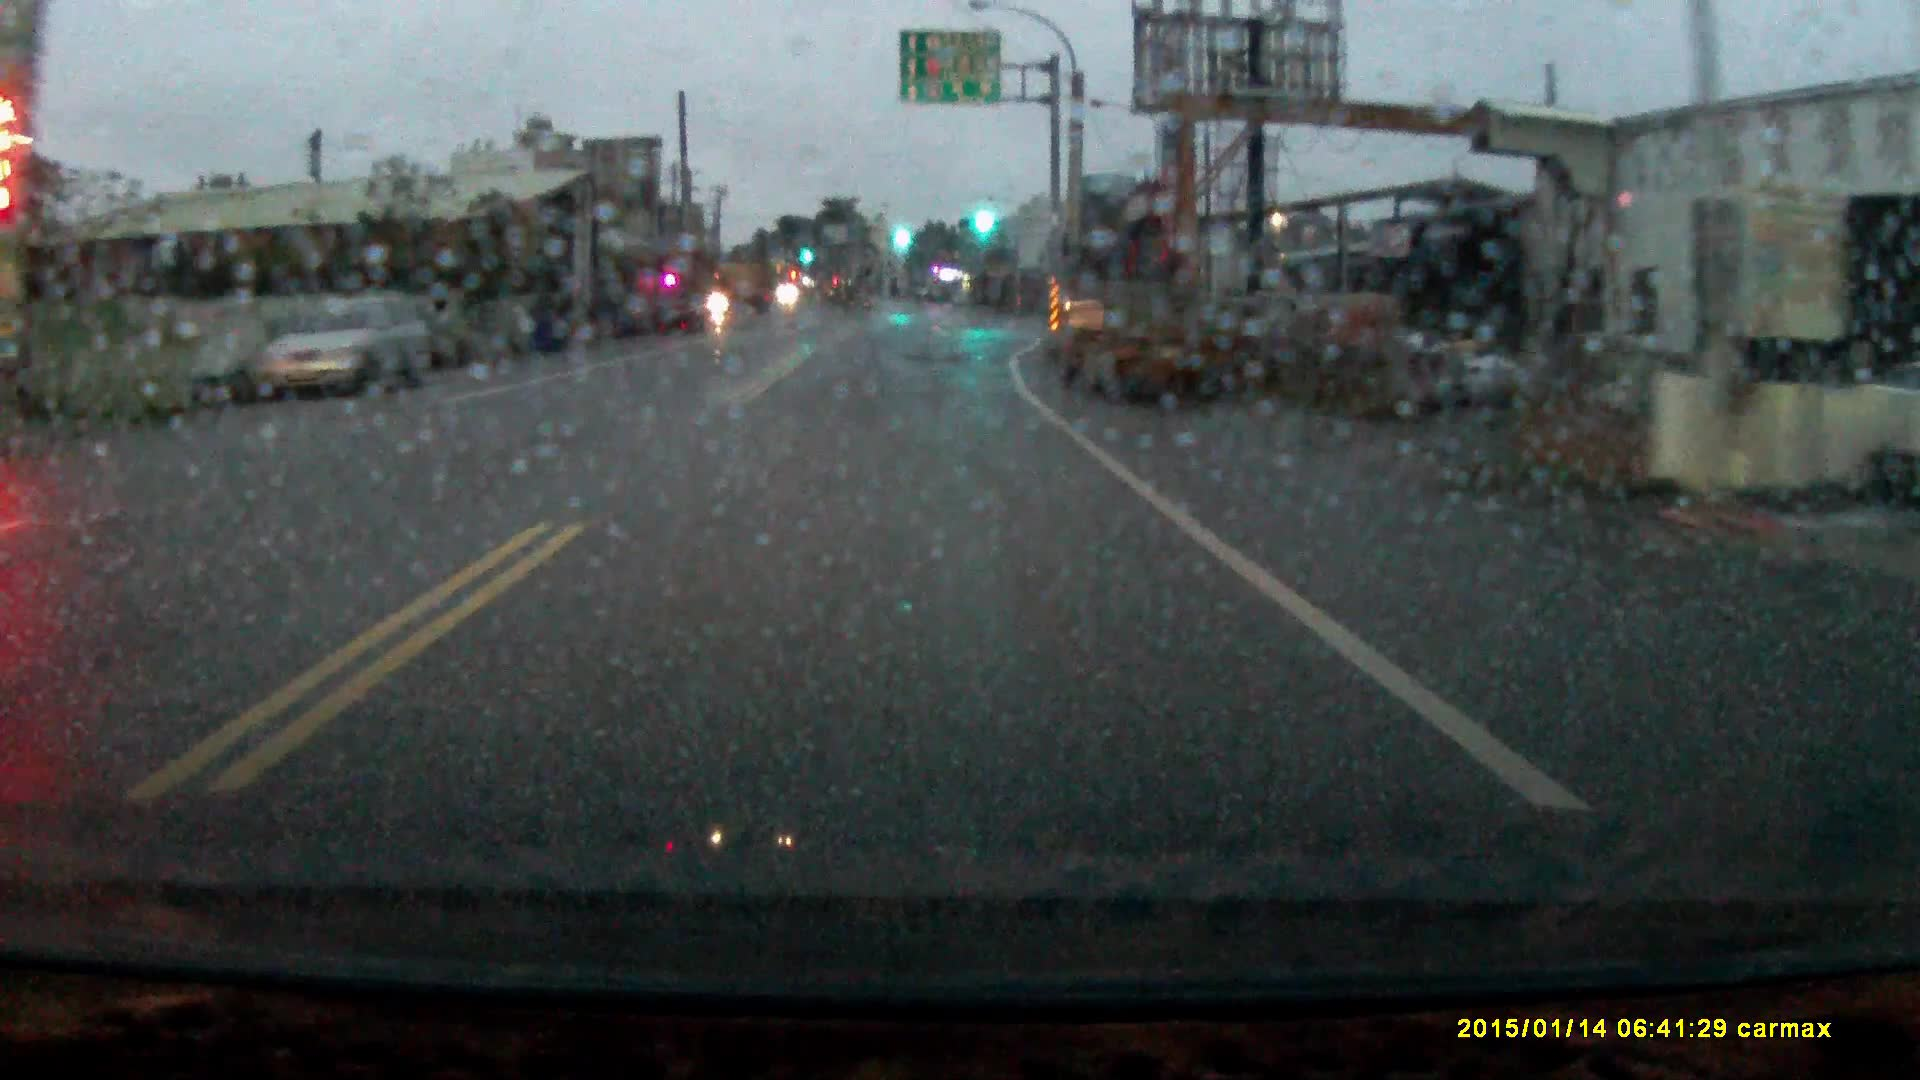vehicle: (1047, 243, 1209, 407), (255, 297, 430, 401), (705, 262, 775, 319)
